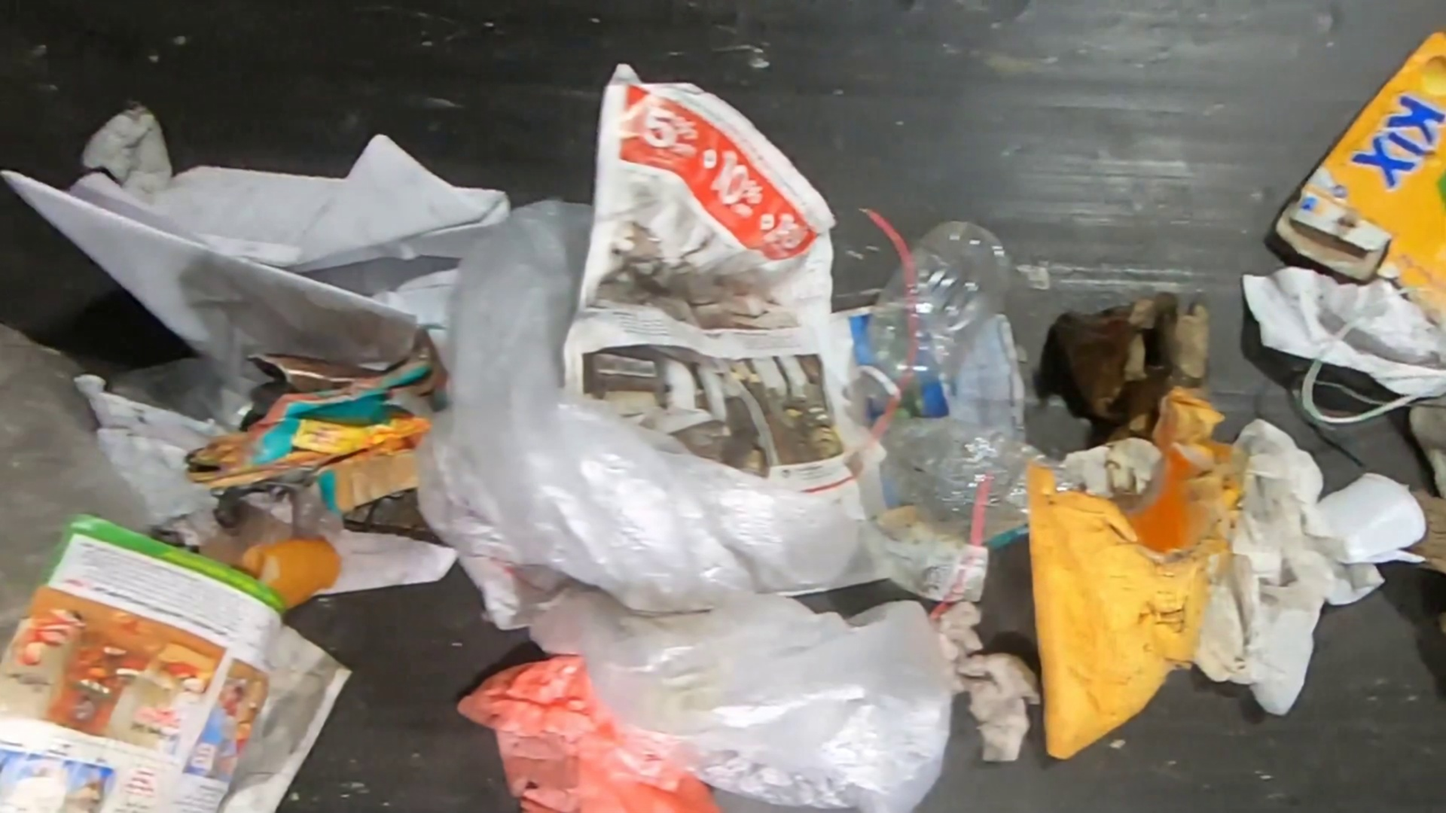cardboard: (1025, 389, 1253, 761), (1272, 32, 1446, 338), (188, 344, 451, 516), (1052, 292, 1211, 444)
plastic: (415, 199, 965, 811), (0, 321, 159, 631), (841, 216, 1022, 414), (882, 415, 1074, 548)
